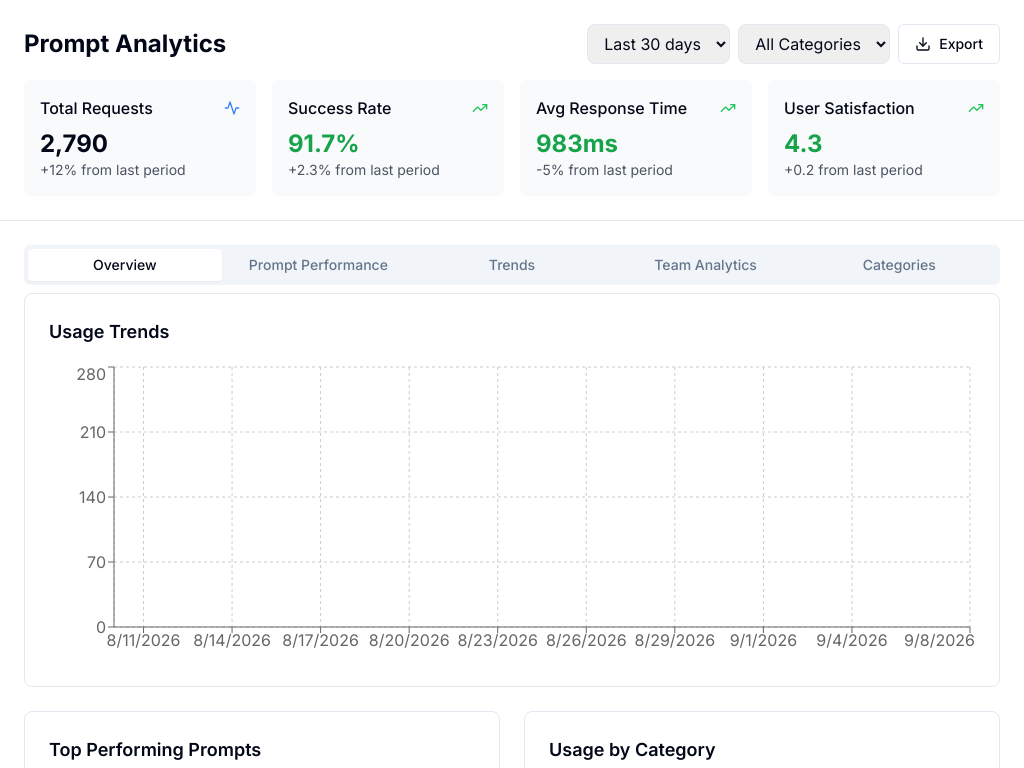
Scenario: AnalyticsDashboard › displays prompt usage statistics in table
The width and height of the screenshot is (1024, 768).
Click the tab "Prompt Performance".
click(318, 265)  # box [222,249,415,281]
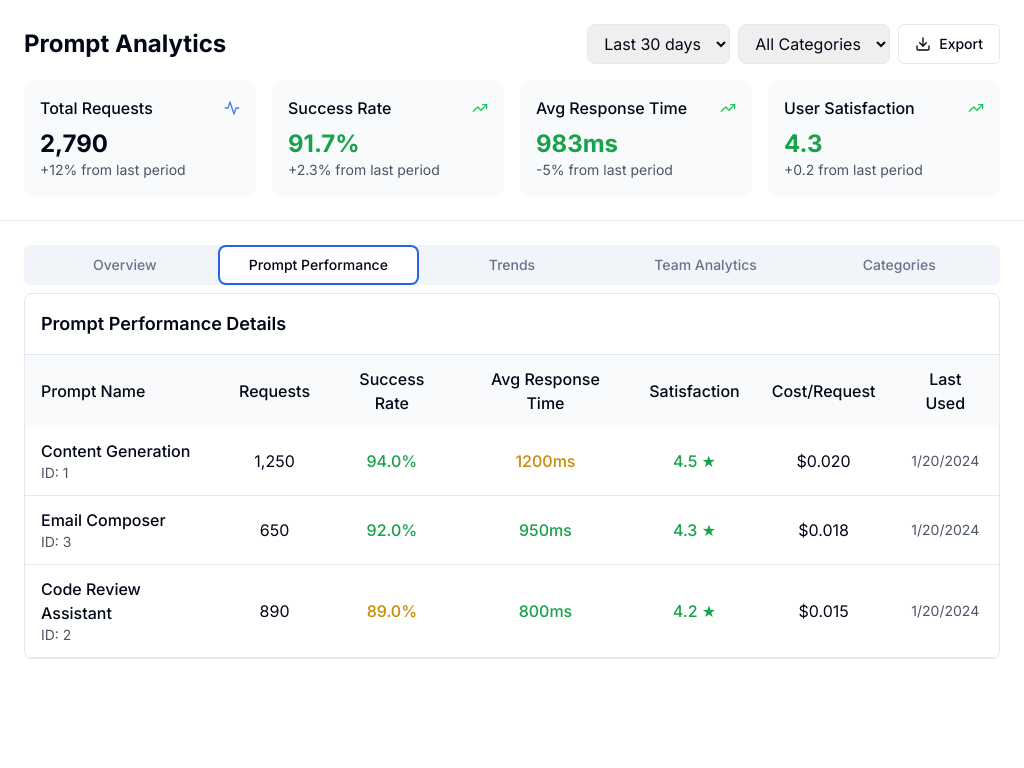
Now the column heading "Cost/Request" is shown, box [756,355,892,427]
Now the column heading "Last Used" is shown, box [892,355,999,427]
Now the column heading "Satisfaction" is shown, box [633,355,756,427]
